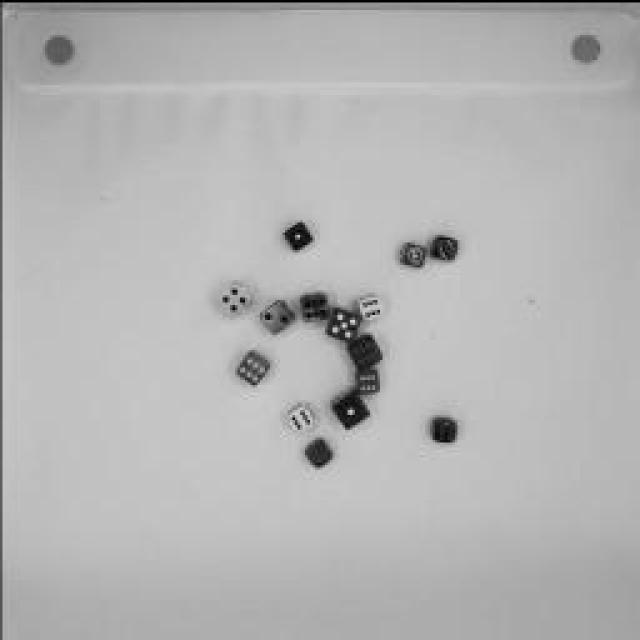dice_1: (328, 382, 374, 430), (274, 210, 321, 255), (395, 231, 430, 271)
dice_2: (258, 292, 298, 338)
dice_3: (430, 230, 475, 265)
dice_4: (215, 275, 255, 315)
dice_5: (325, 300, 365, 345)
dice_6: (346, 330, 394, 375), (275, 389, 317, 431), (235, 346, 273, 389), (292, 282, 332, 322), (301, 430, 339, 470), (425, 412, 460, 446), (353, 288, 385, 322), (350, 366, 385, 396)
